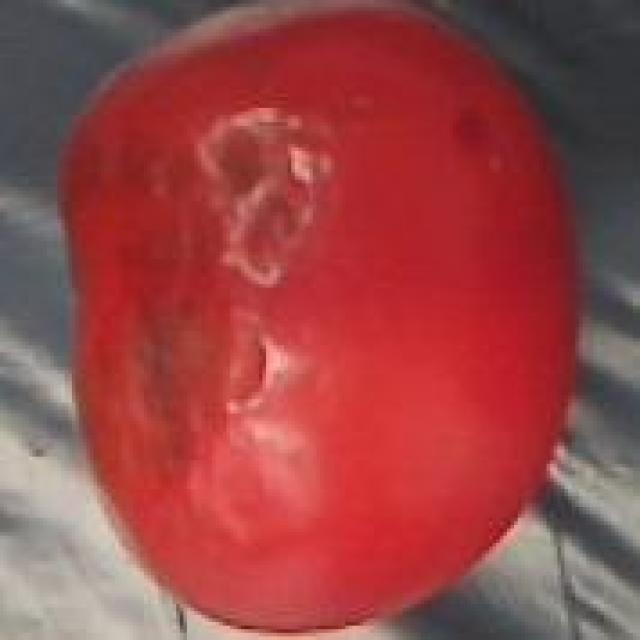overripe tomato: (47, 0, 590, 640)
